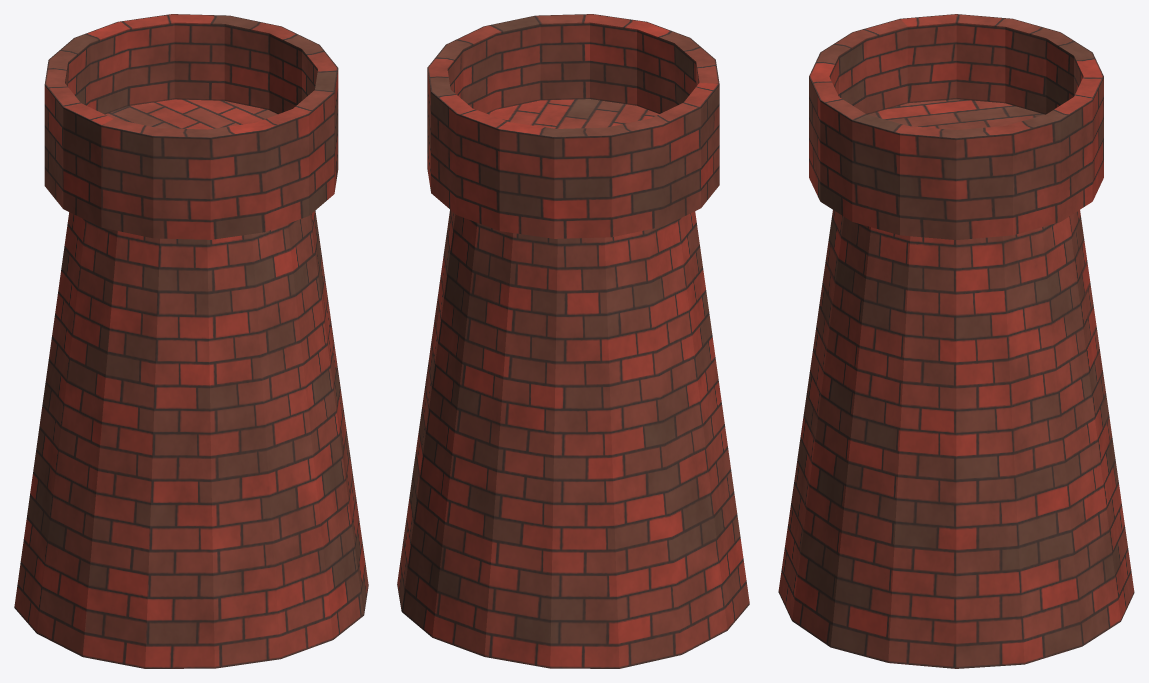
File: aoe-tower.fbx
The picture shows the model from 3 angles, left to right: view 1: azimuth 30°, elevation 25°; view 2: azimuth 150°, elevation 25°; view 3: azimuth 270°, elevation 25°; orthographic projection.
Parts seen in each view (by area): view 1: Cylinder.001; view 2: Cylinder.001; view 3: Cylinder.001.
Boxes of the visible parts, <box> form: Cylinder.001: <box>14,14,368,668</box>; Cylinder.001: <box>397,14,749,668</box>; Cylinder.001: <box>778,14,1134,668</box>.
Size of the model in its own units: 200 by 323 by 200.
